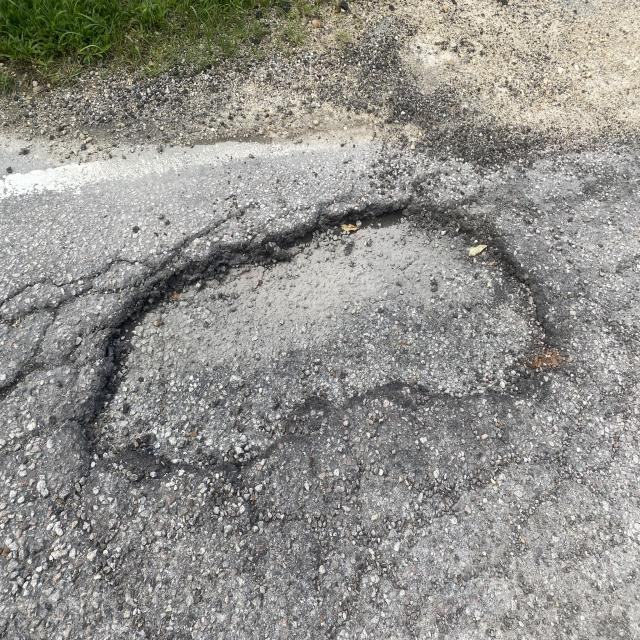Pothole: (64, 175, 575, 482)
